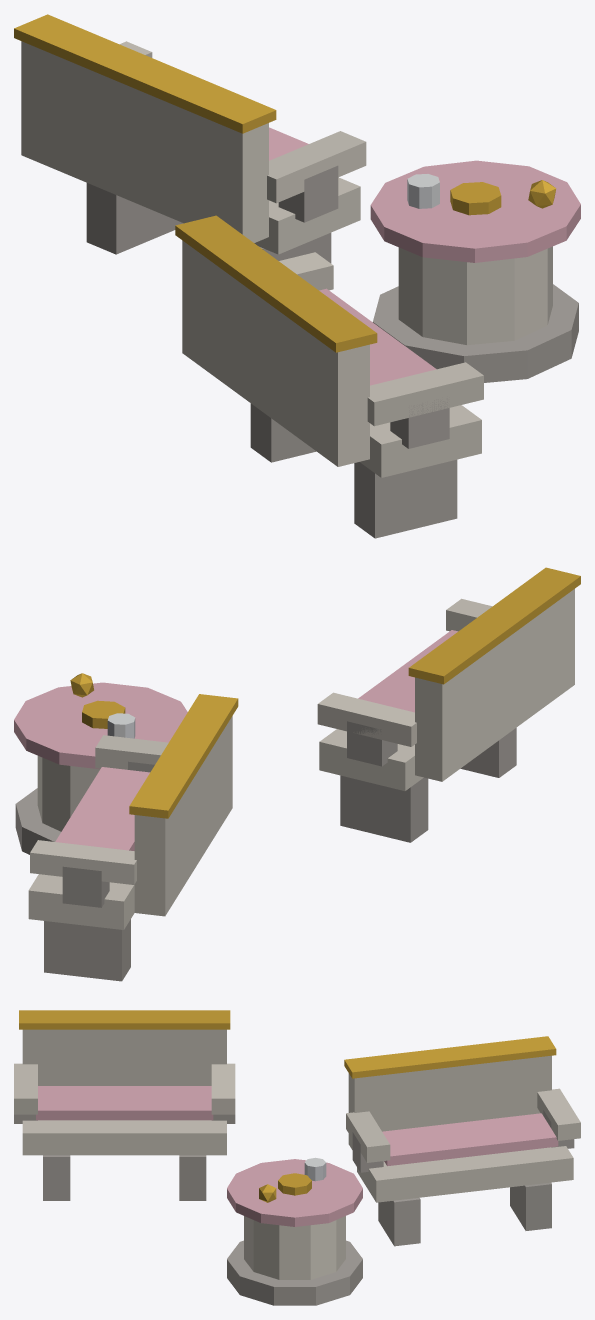
File: Decor_CloudTemple_Benches.fbx
The picture shows the model from 3 angles, top to bottom: view 1: azimuth 30°, elevation 25°; view 2: azimuth 150°, elevation 25°; view 3: azimuth 270°, elevation 25°; orthographic projection. The views are drawn at different scales.
Visible parts, largest first — view 1: Benches_Body; view 2: Benches_Body; view 3: Benches_Body.
Boxes of the visible parts, x1=… form: Benches_Body: x1=14, y1=14, x2=580, y2=538; Benches_Body: x1=14, y1=567, x2=580, y2=981; Benches_Body: x1=14, y1=1010, x2=580, y2=1305.
Bounding box in the file's own units: 9.55 × 4.9 × 16.18.
